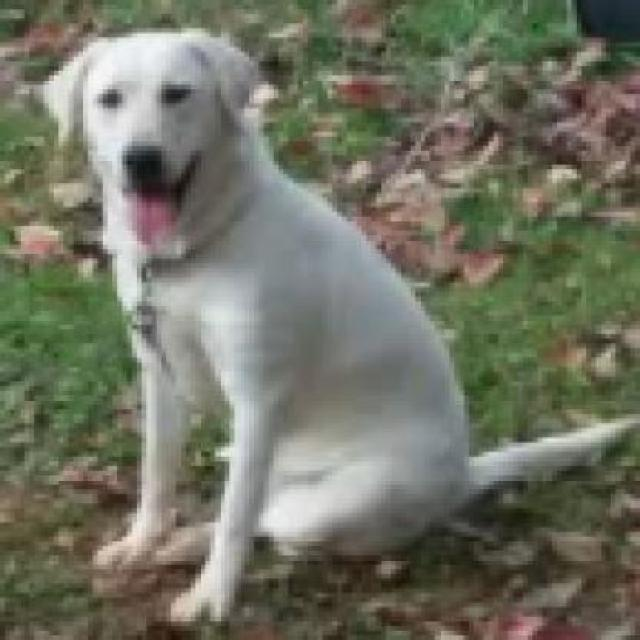Dog: (34, 23, 635, 626)
